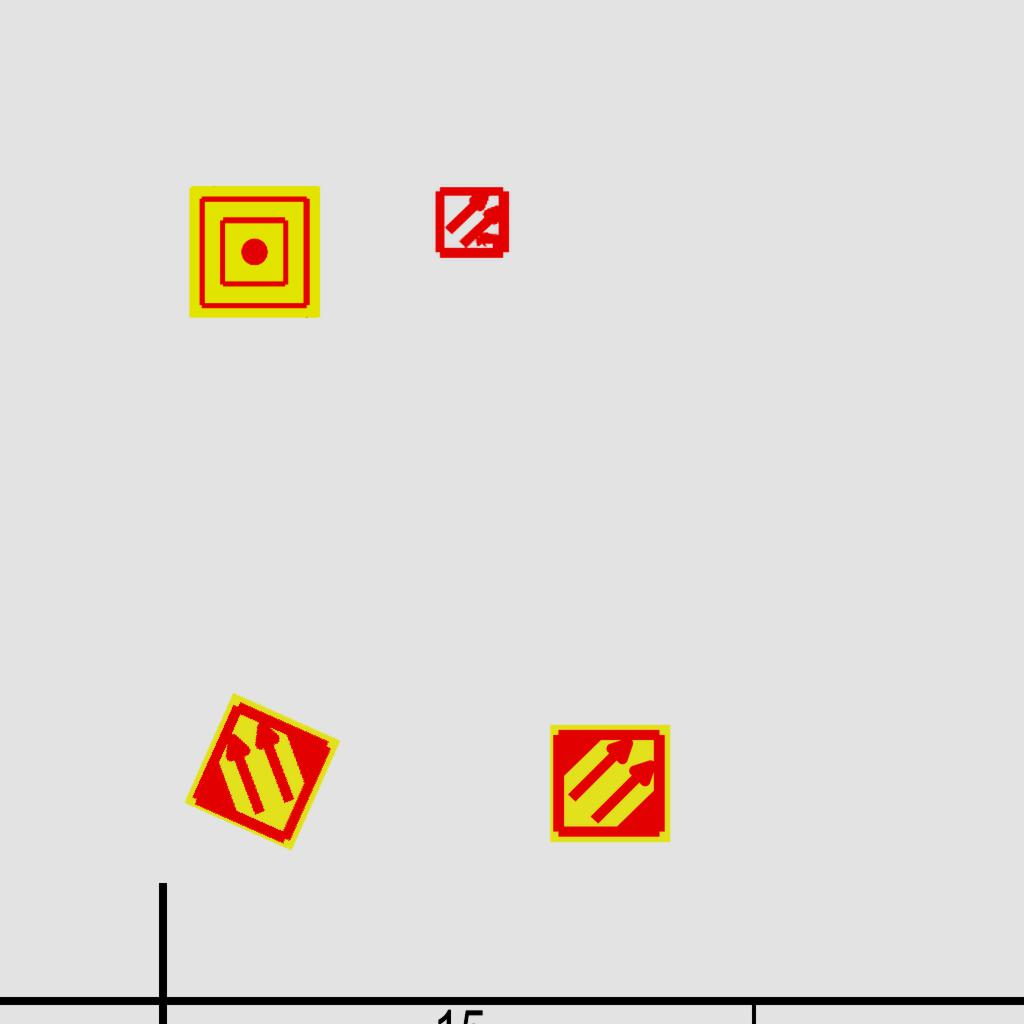ASR_Ansaugrauchmelder: (179, 688, 346, 855), (548, 721, 673, 846)
NAM-Nichtautomatischer_Melder: (189, 186, 321, 318)
OT_Multisensormelder_(Kombination_RMO_WMD): (418, 166, 531, 279)
